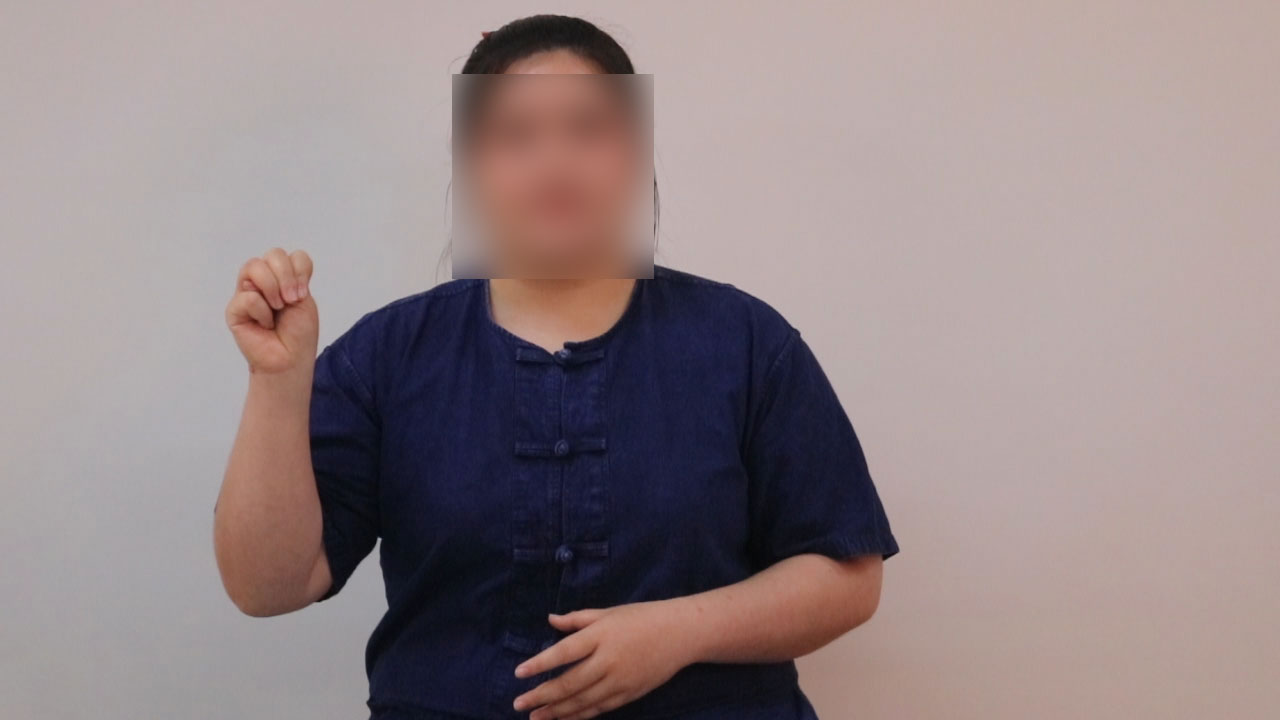mor: (212, 234, 335, 378)
